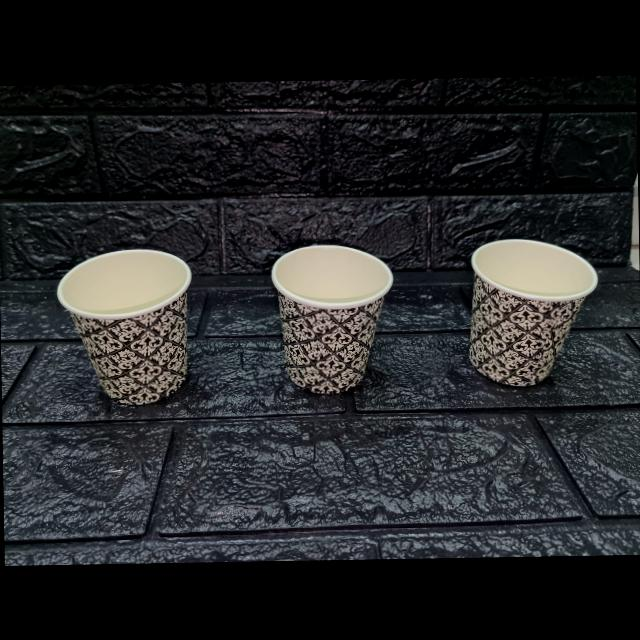trash: (56, 245, 198, 406), (464, 236, 600, 389), (262, 240, 390, 394)
